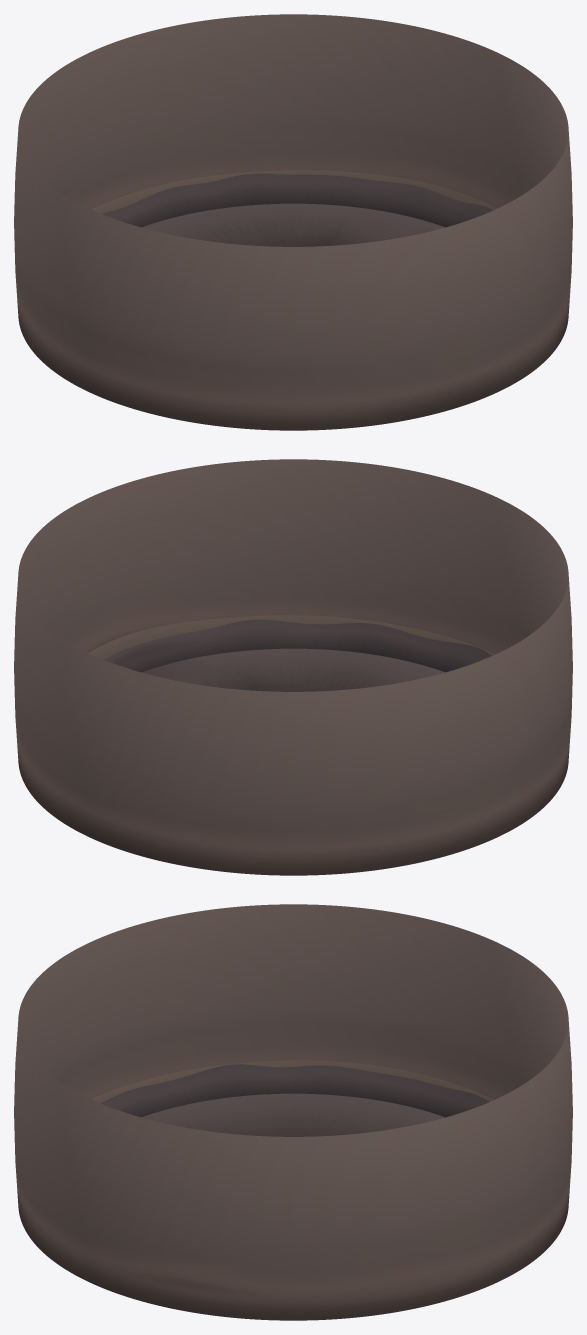
The model's file is seed-run-panorama.glb.
The picture shows the model from 3 angles, top to bottom: view 1: azimuth 30°, elevation 25°; view 2: azimuth 150°, elevation 25°; view 3: azimuth 270°, elevation 25°; orthographic projection.
Visible parts, largest first — view 1: SeedRunPanorama; view 2: SeedRunPanorama; view 3: SeedRunPanorama.
Boxes of the visible parts, x1,y1,x2,y2 form: SeedRunPanorama: [14, 14, 572, 430]; SeedRunPanorama: [14, 459, 572, 875]; SeedRunPanorama: [14, 904, 572, 1320].
Bounding box in the file's own units: 386 × 140 × 386.
Materials: 1 (1 with a texture image).
